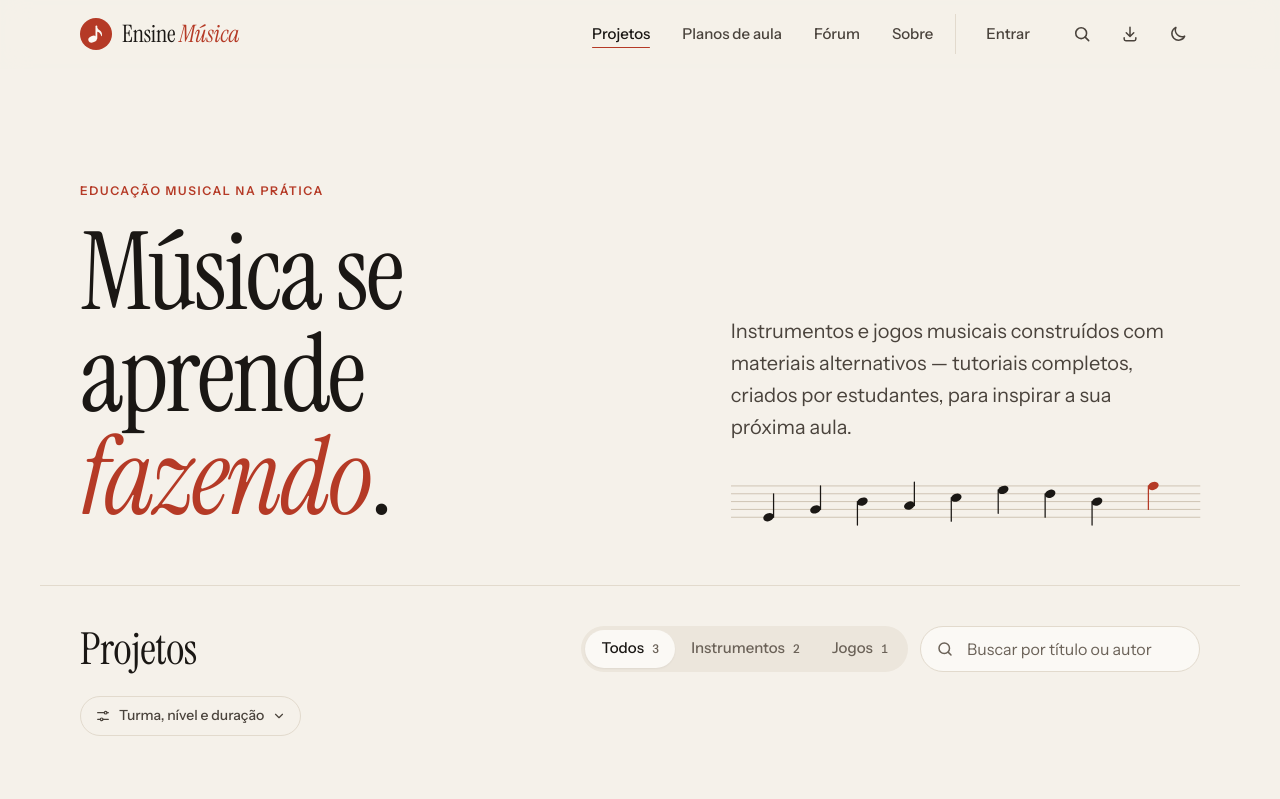
Test: ficha do projeto (turma, nível e duração) › filtra por nível e mostra o resumo nos cards
The image size is (1280, 799).
Click the button "Turma, nível e duração". click: click(191, 716)
box: [80, 696, 301, 736]
(page scrolled)
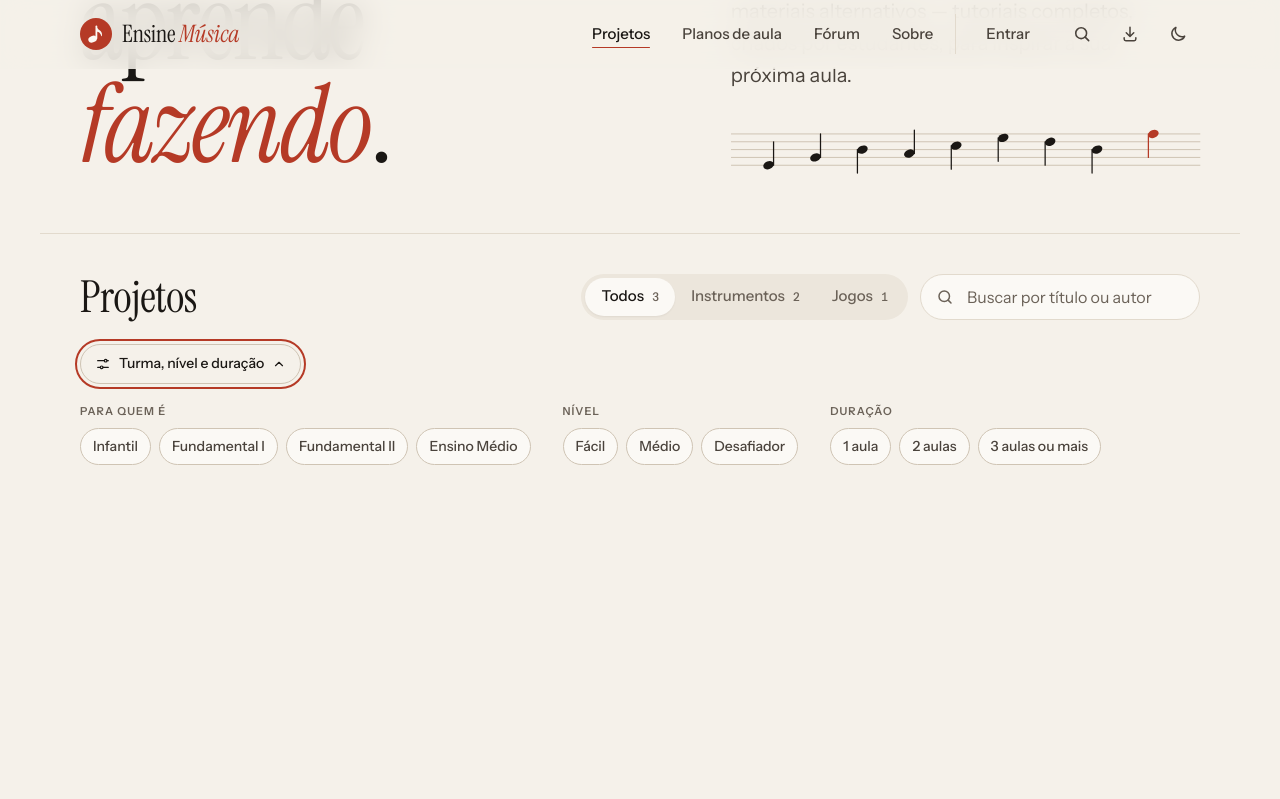
Click the button "Desafiador". click: click(750, 446)
box: [701, 428, 798, 465]
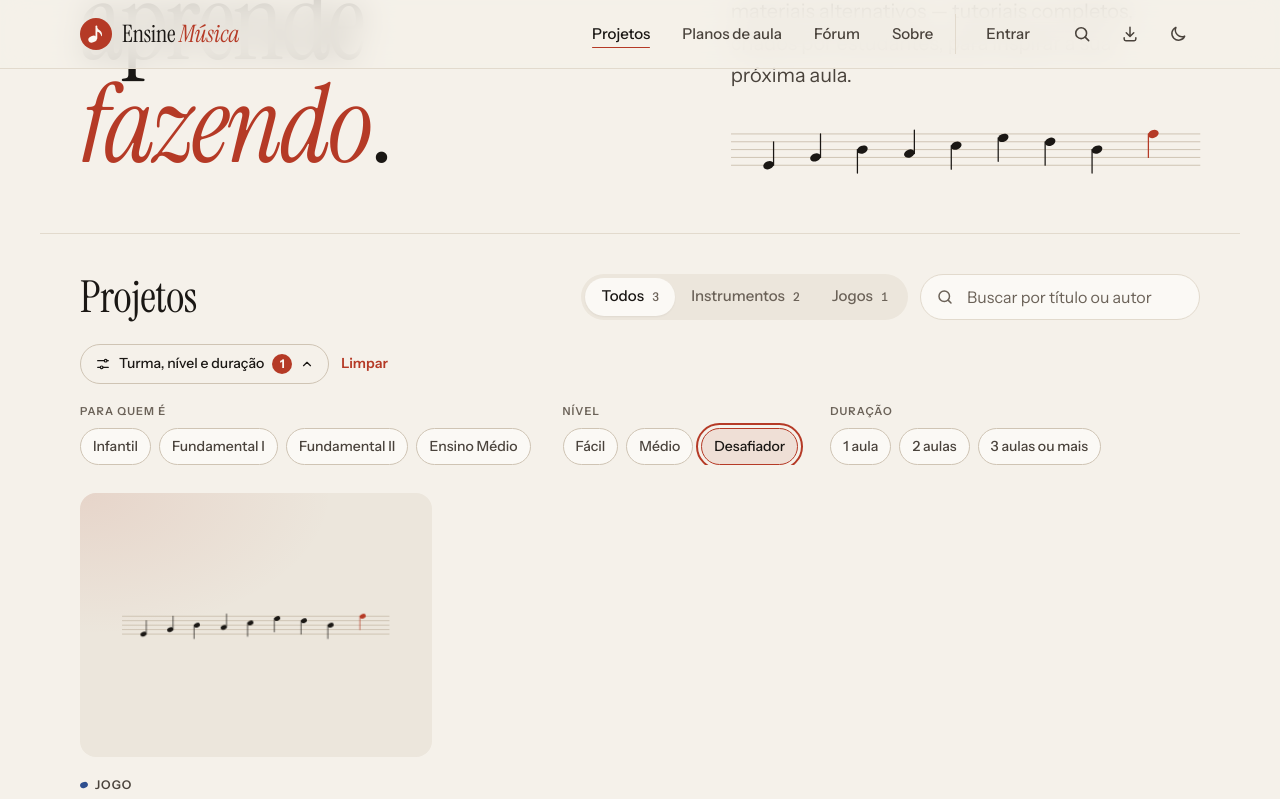
expect the text "Tambor de lata" is not shown: met
Click the button "Limpar". click: click(365, 364)
box: [341, 352, 388, 375]
(page scrolled)
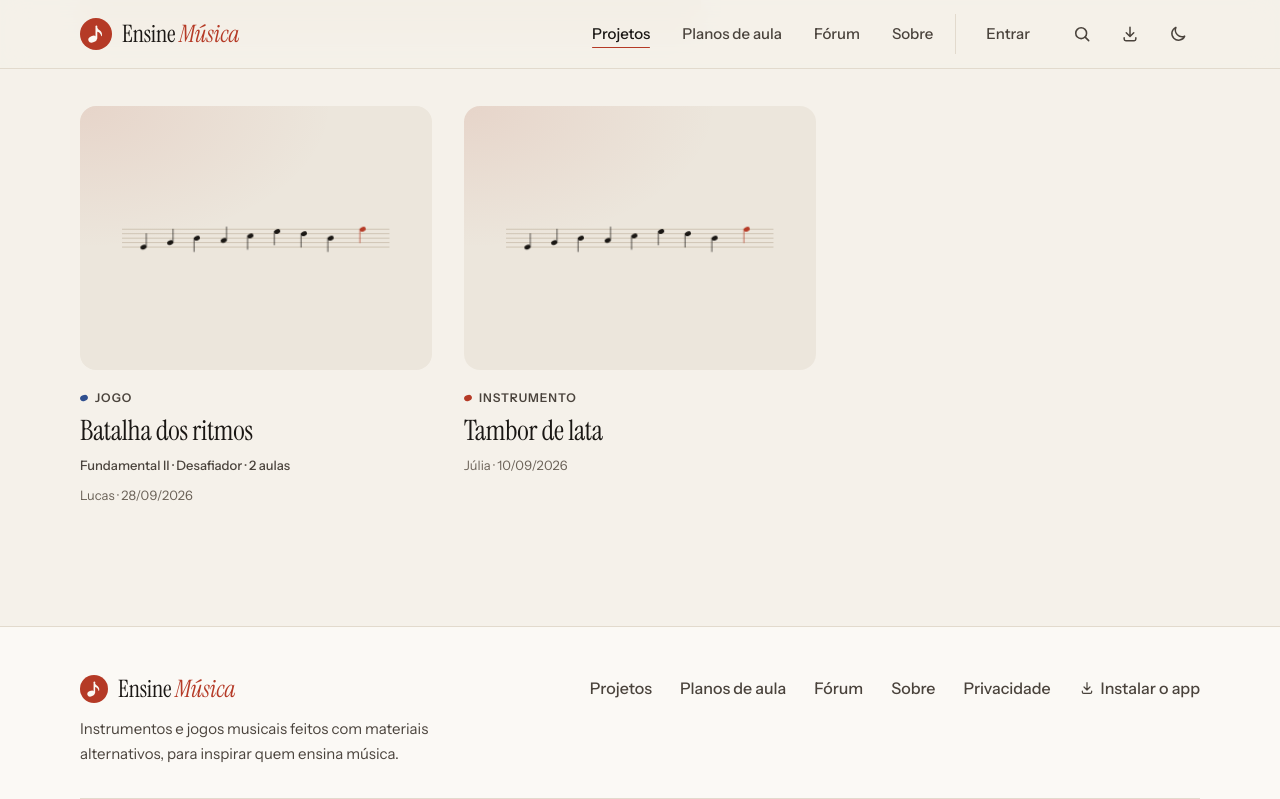
expect the text "Tambor de lata" is shown: met, box [464, 412, 603, 449]
